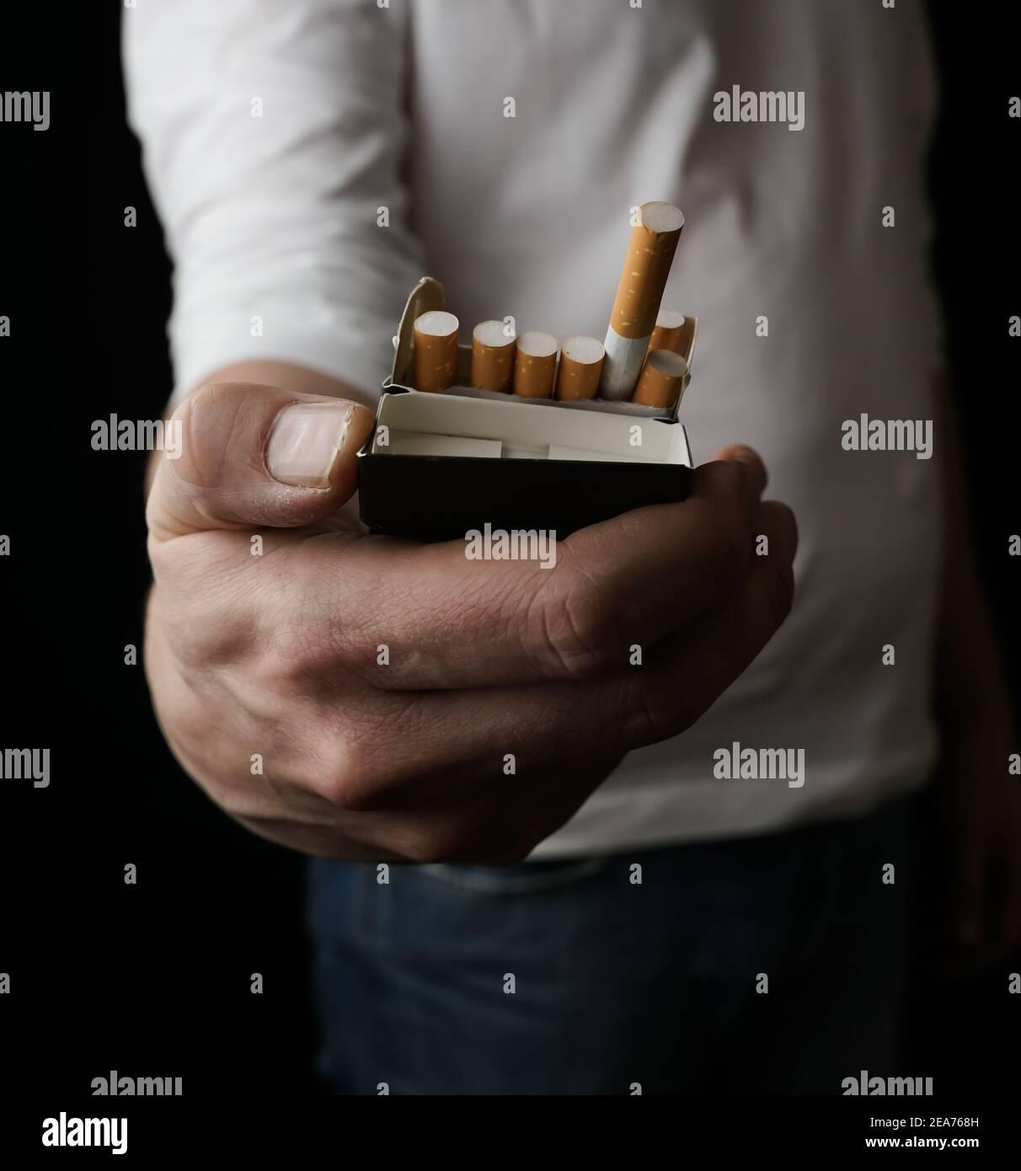cigarette: (600, 201, 683, 400), (414, 311, 458, 391), (555, 335, 604, 399)
